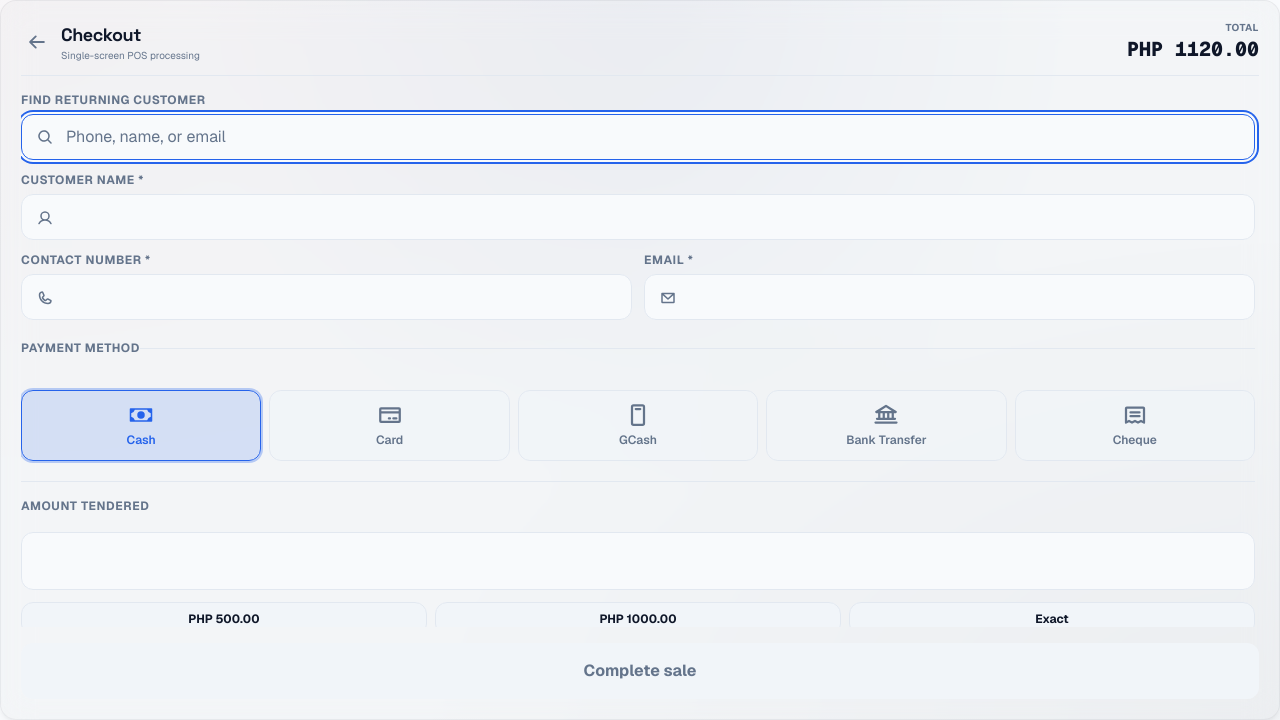
Test: PosCheckoutPane › blocks completion until name, phone and email are all filled
Expected: the button "Complete sale" is disabled, [21,643,1259,699]
Step 1. Type "Juan Cruz" into the field labelled "Customer name *" → [638, 217], box [21,194,1255,240]
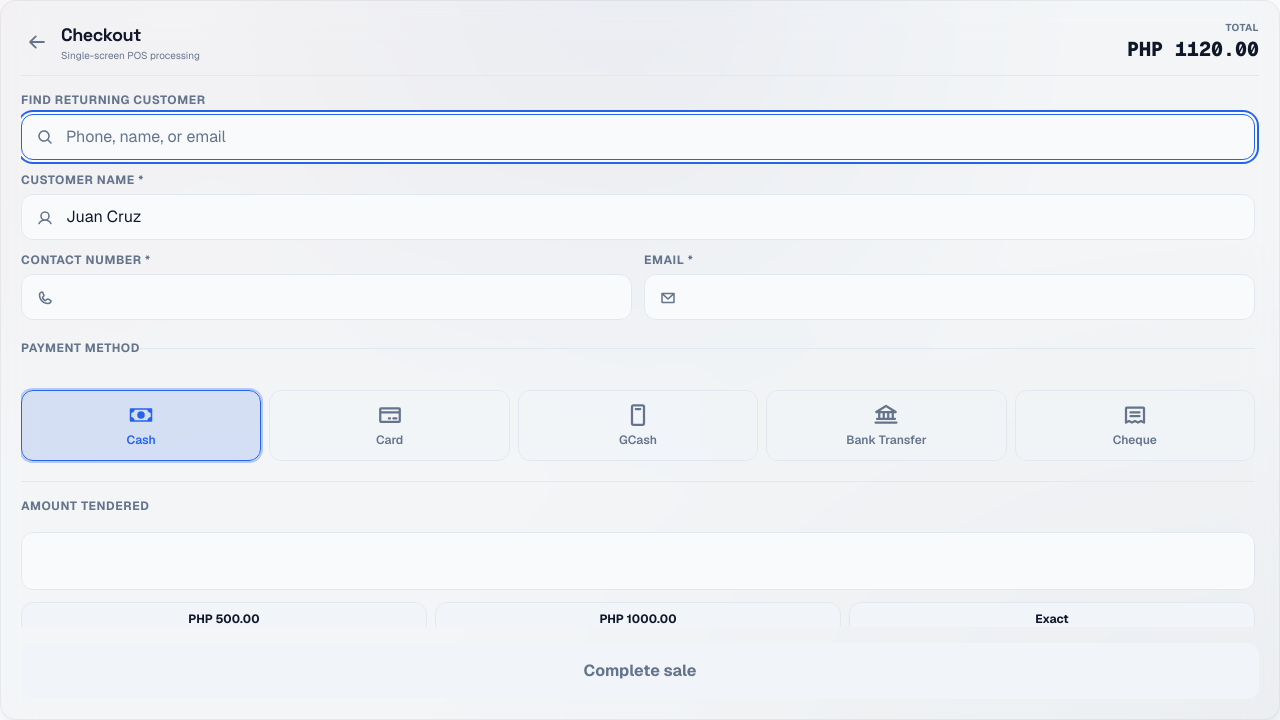
Expected: the button "Complete sale" is disabled, [21,643,1259,699]
Step 2. Type "09171234567" into the field labelled "Contact number *" → [326, 297], box [21,274,632,320]
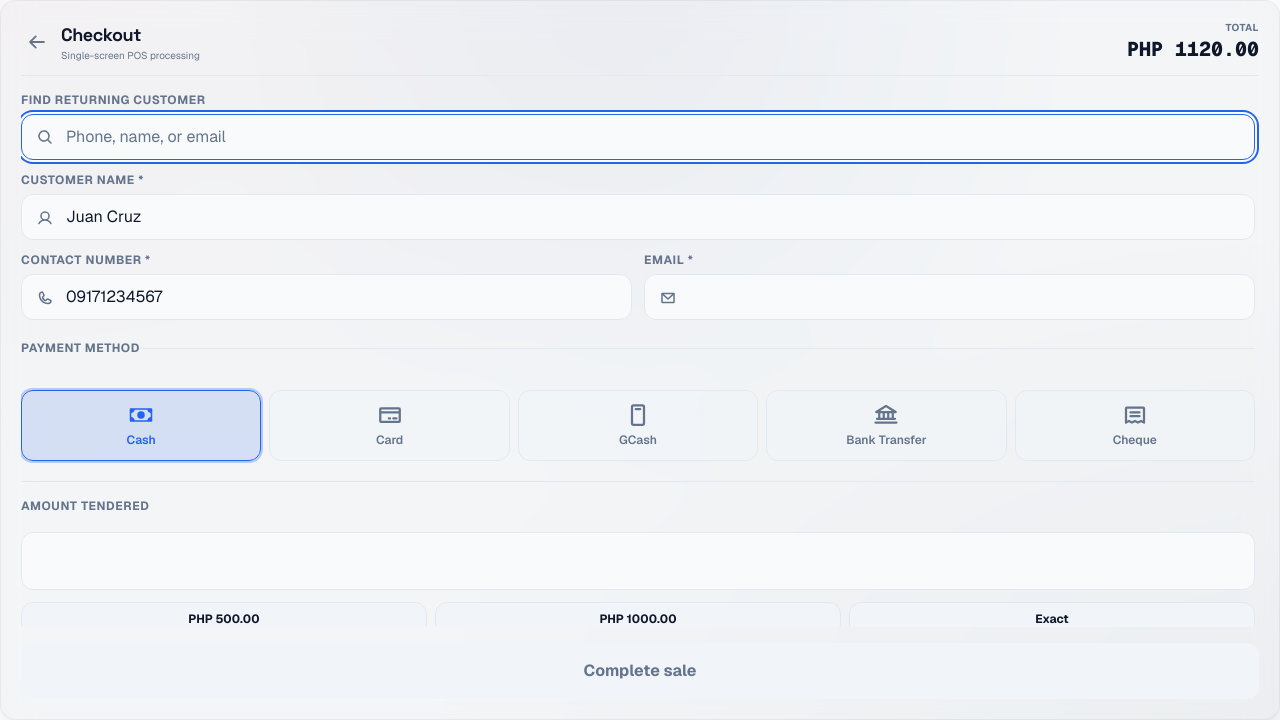
Expected: the button "Complete sale" is disabled, [21,643,1259,699]
Step 3. Type "juan@example.com" into the field labelled "Email *" → [950, 297], box [644,274,1255,320]
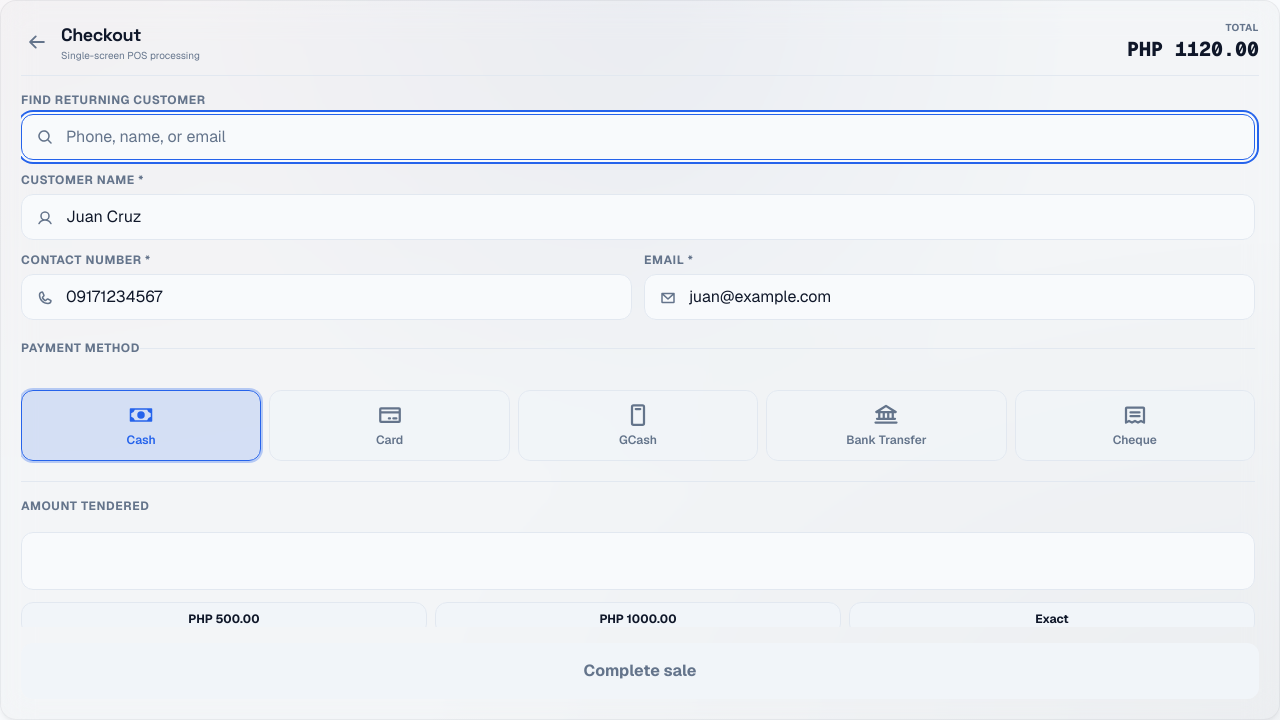
Expected: the button "Complete sale" is disabled, [21,643,1259,699]
Step 4. Click the button "Exact" → [1052, 619], box [849,602,1255,636]
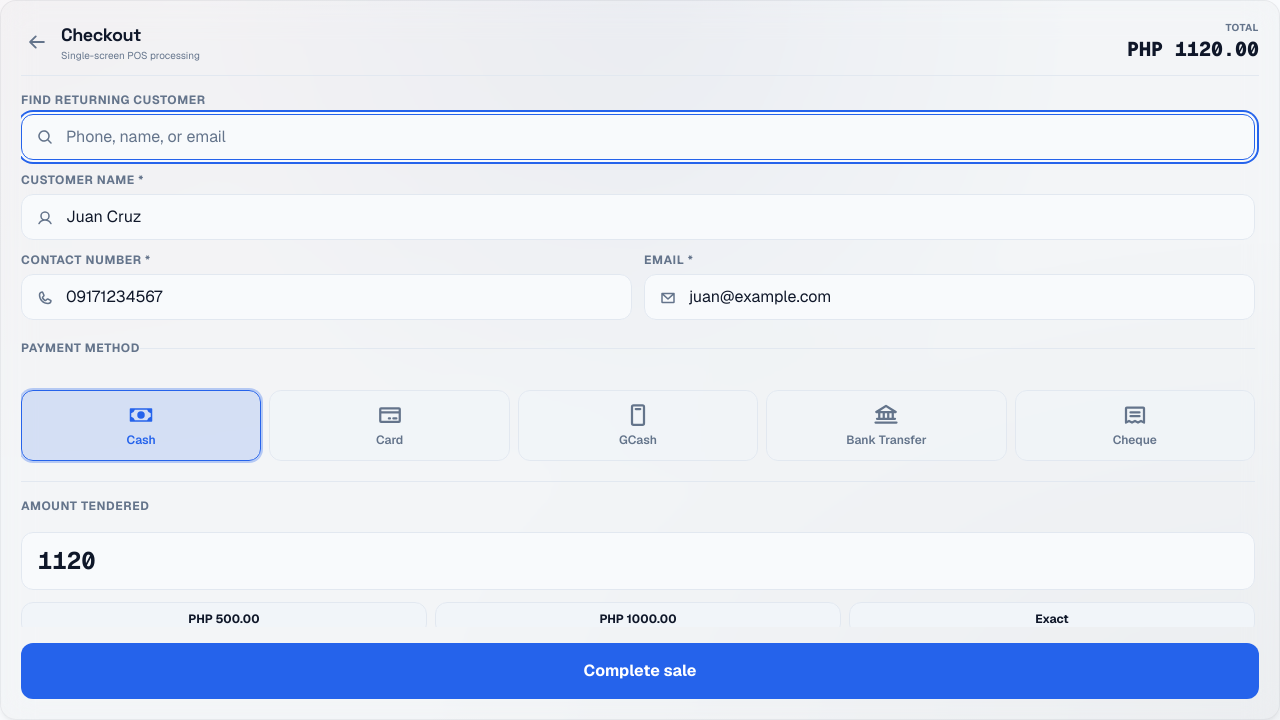
Now the button "Complete sale" is enabled, box [21,643,1259,699]
